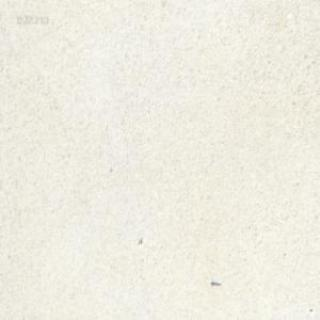Nailtrack_idkeyframe: (209, 278, 220, 286)
